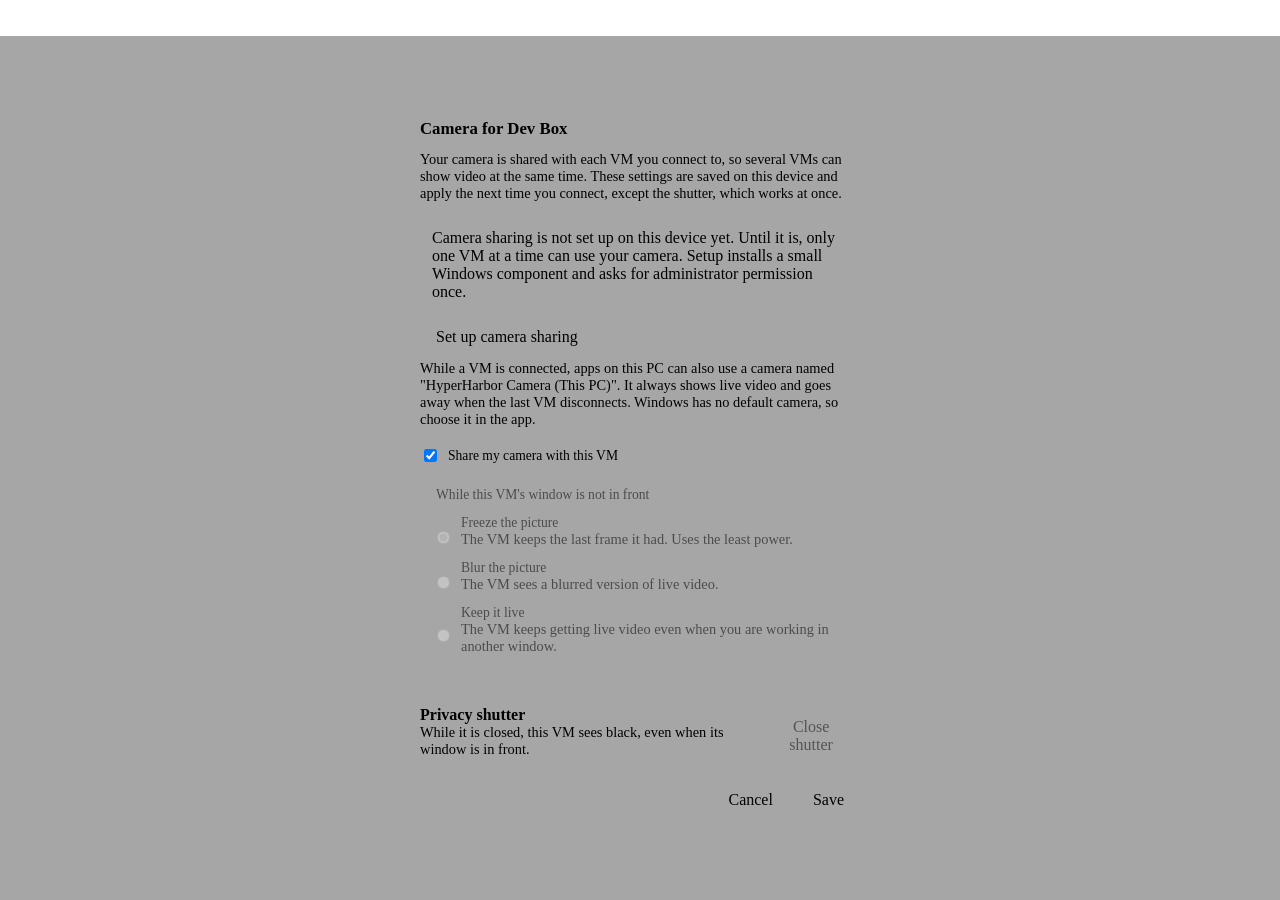
CameraDialog › offers one-time setup when the camera source is not installed, and refreshes after it
Expected: the text "not set up on this device yet" is shown, [432,229,835,300]
Click the button "Set up camera sharing": [507, 337] box [420,321,594,353]
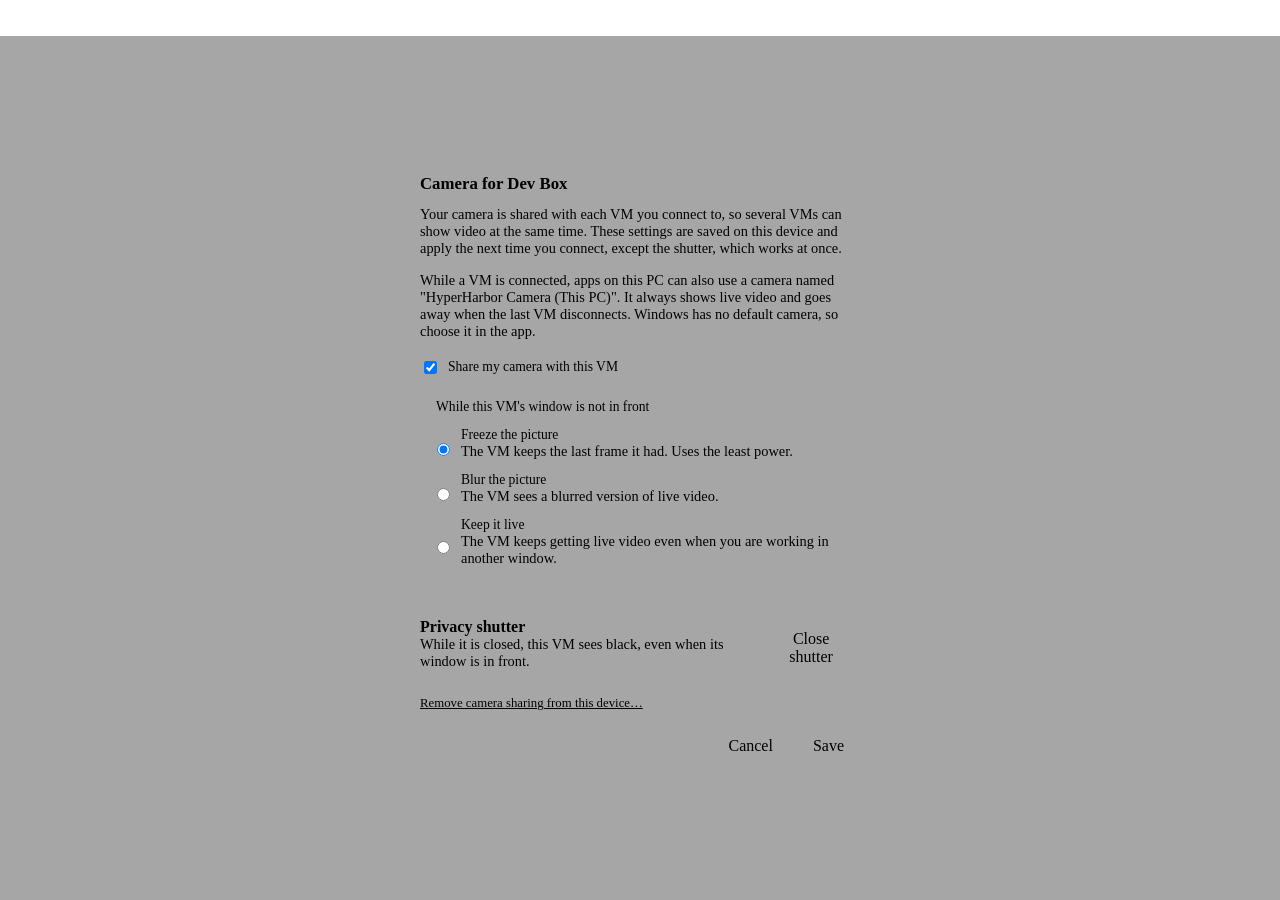
Expected: the text "not set up on this device yet" is gone
